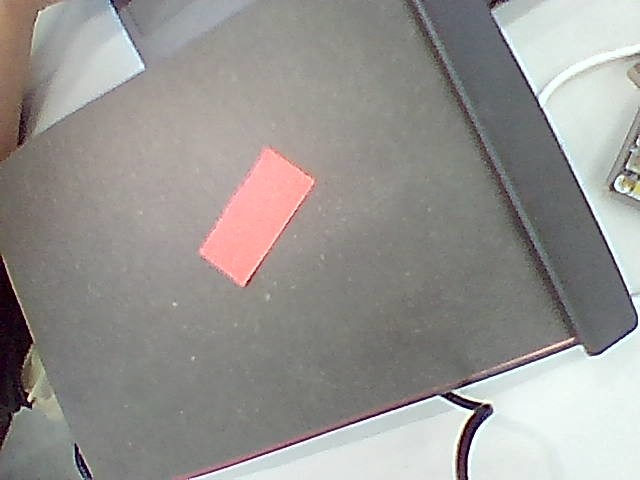card: (200, 149, 312, 286)
